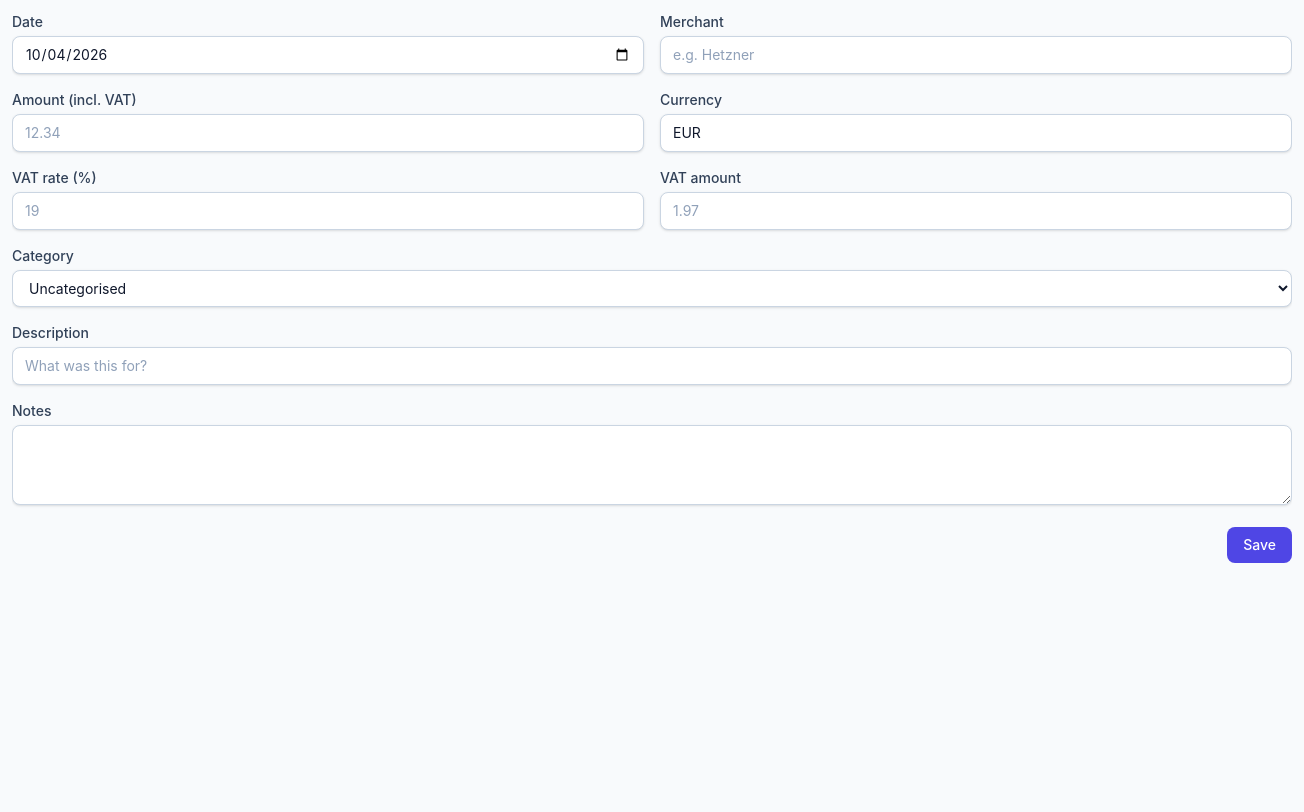
Scenario: TransactionForm › validates before submitting
This screenshot has width=1304, height=812.
Click the button "Save" at (1260, 545), box [1227, 527, 1292, 563]
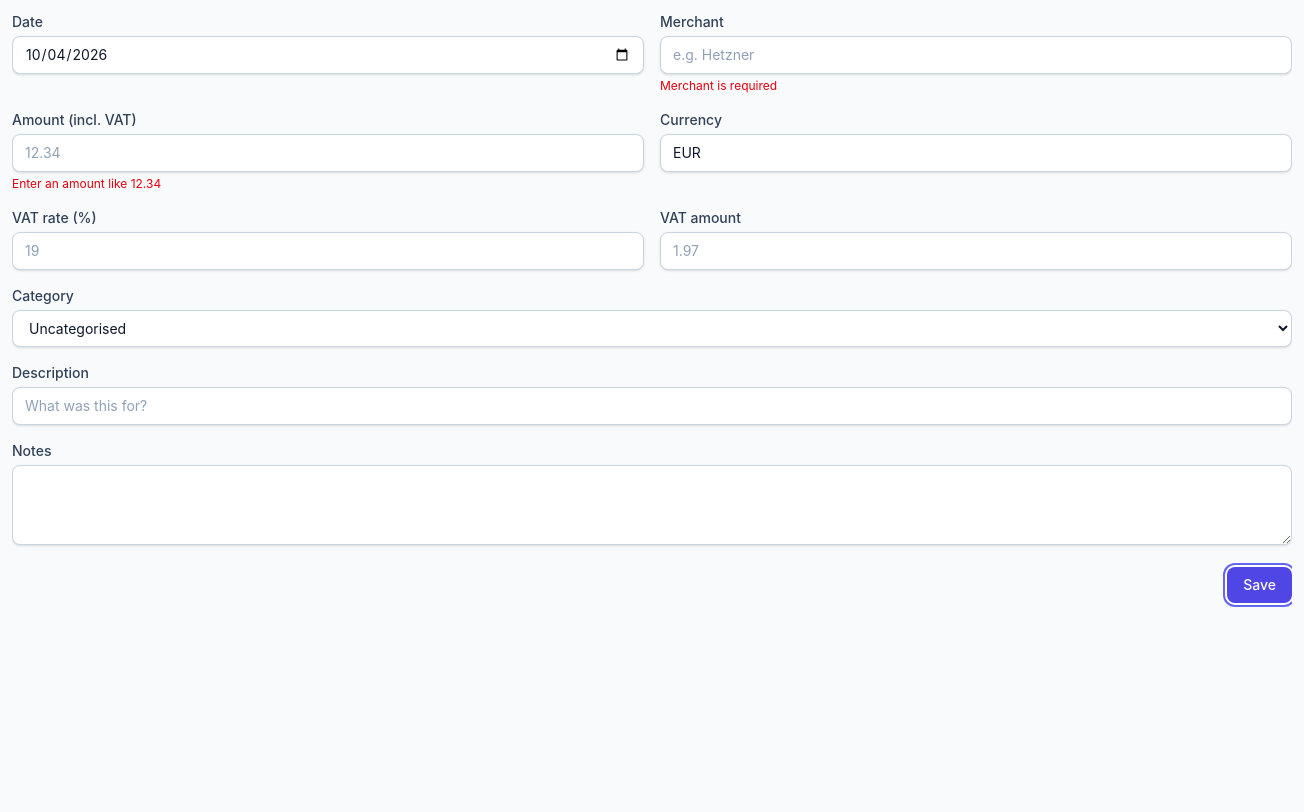
Now the text "Merchant is required" is shown, box [660, 78, 777, 93]
Now the text "Enter an amount like 12.34" is shown, box [12, 176, 161, 191]
